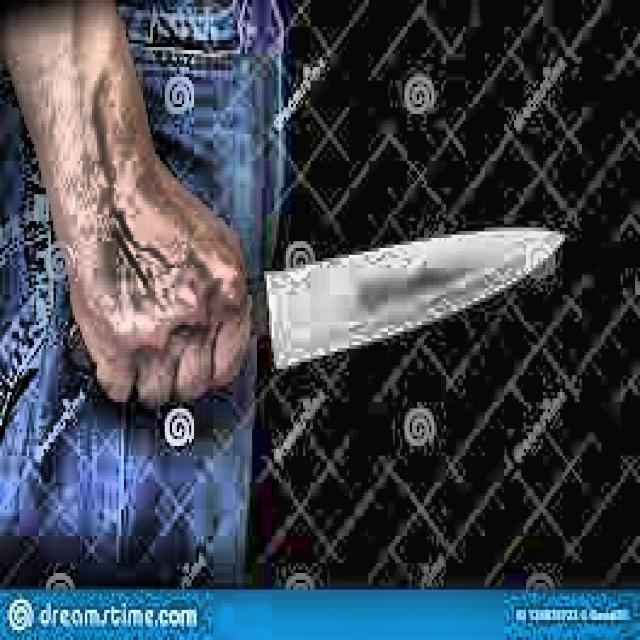knife: (71, 227, 564, 387)
